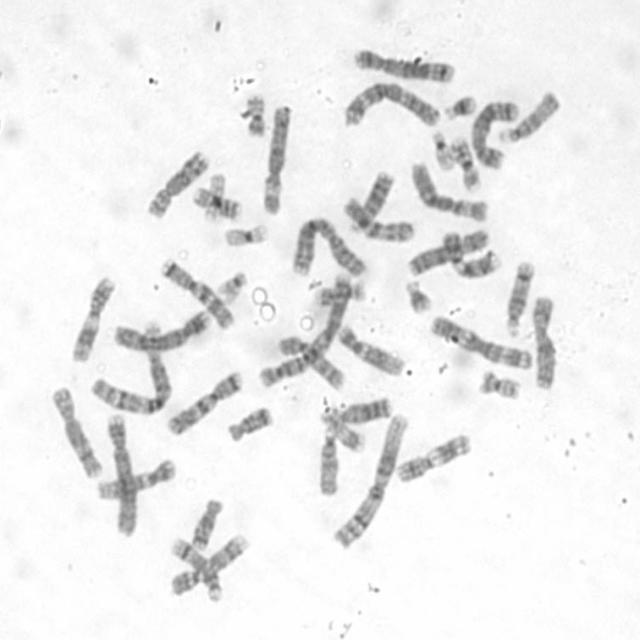A1: (331, 410, 410, 551), (87, 318, 174, 417)
A2: (258, 271, 354, 392), (292, 217, 368, 277)
A3: (429, 313, 534, 372), (342, 82, 442, 132)
B4: (111, 308, 213, 356), (105, 412, 142, 540)
B5: (353, 48, 456, 84), (470, 100, 522, 170)
C10: (276, 333, 346, 391), (341, 195, 417, 242)
C11: (70, 272, 115, 365), (395, 432, 471, 485)
C12: (337, 323, 406, 379), (97, 458, 176, 502)
C6: (408, 160, 492, 224), (262, 103, 292, 217)
C7: (159, 257, 237, 330), (166, 368, 245, 438)
C8: (145, 147, 211, 222), (50, 386, 103, 479)
C9: (170, 531, 252, 599), (440, 231, 502, 279)
D13: (346, 167, 395, 236), (332, 395, 393, 425)
D14: (167, 537, 223, 603), (503, 258, 536, 338)
D15: (497, 88, 562, 145), (318, 423, 341, 499)
E16: (447, 135, 484, 194), (192, 185, 243, 222)
E17: (318, 409, 368, 454), (312, 278, 368, 309)
E18: (189, 495, 227, 551), (225, 405, 276, 443)
F19: (201, 169, 226, 224), (222, 222, 271, 250)
F20: (478, 368, 522, 402), (243, 92, 268, 138)
G21: (441, 94, 480, 123), (402, 280, 434, 314)
G22: (215, 266, 249, 306), (430, 130, 456, 171)
X: (405, 228, 492, 279), (530, 296, 560, 391)
